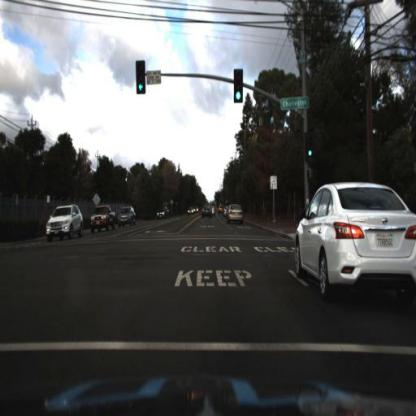car: (284, 179, 416, 313), (43, 199, 88, 247), (88, 203, 122, 235), (224, 203, 248, 226), (120, 206, 141, 231), (154, 201, 170, 224), (201, 204, 215, 220), (186, 206, 196, 218)
trafficLight: (137, 73, 148, 100)
trafficLight-Green: (233, 81, 245, 110), (301, 148, 315, 169)
